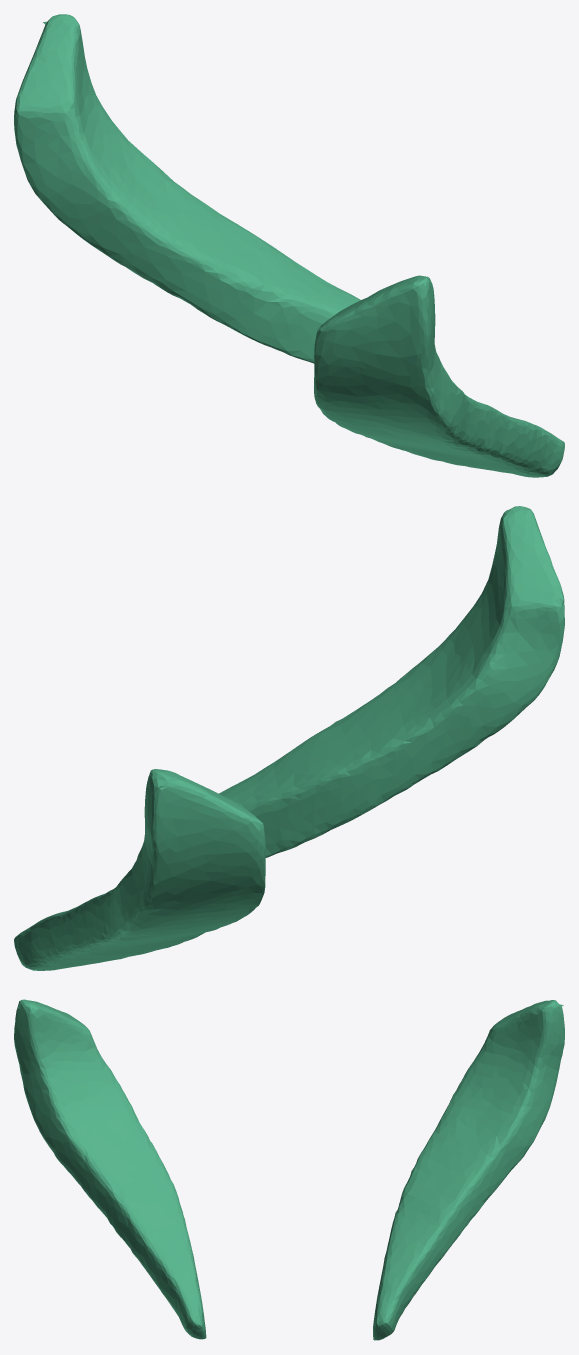
The picture shows the model from 3 angles, top to bottom: view 1: azimuth 30°, elevation 25°; view 2: azimuth 150°, elevation 25°; view 3: azimuth 270°, elevation 25°; orthographic projection. The views are drawn at different scales.
Parts seen in each view (by area): view 1: 844.obj; view 2: 844.obj; view 3: 844.obj.
Part boxes in pixels (x1,y1,x2,y2): 844.obj: (14,14,564,477); 844.obj: (14,506,564,970); 844.obj: (14,999,564,1340).
Size of the model in its own units: 3046 by 3008 by 5934.
